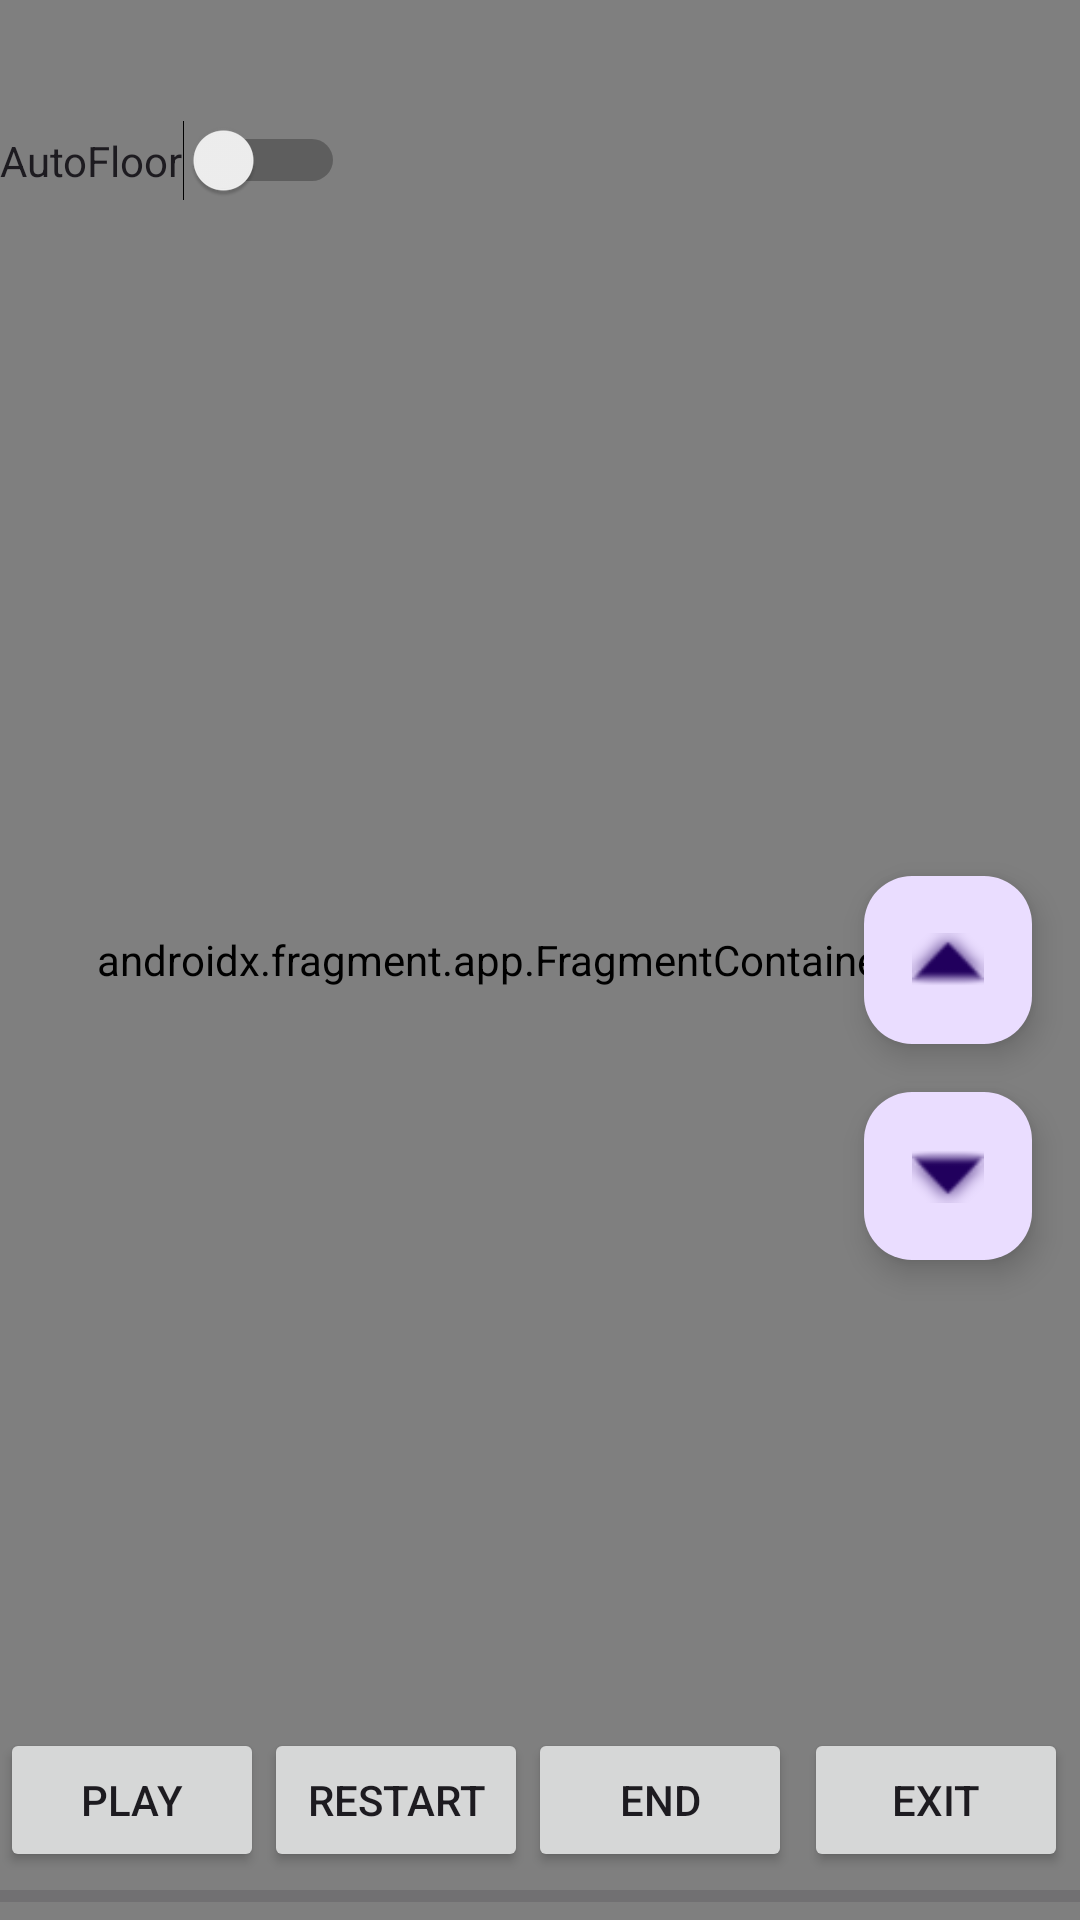

Screen size 1080 x 1920. Icon name, then its box in pixels as [x1, y1, x2, y2]:
arrow down float: [864, 1092, 1032, 1260]
arrow up float: [864, 876, 1032, 1044]
